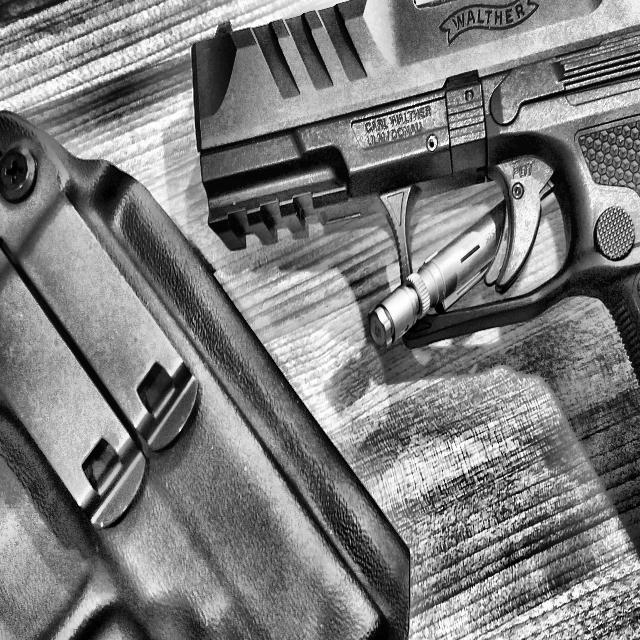Walther: (190, 0, 640, 613)
